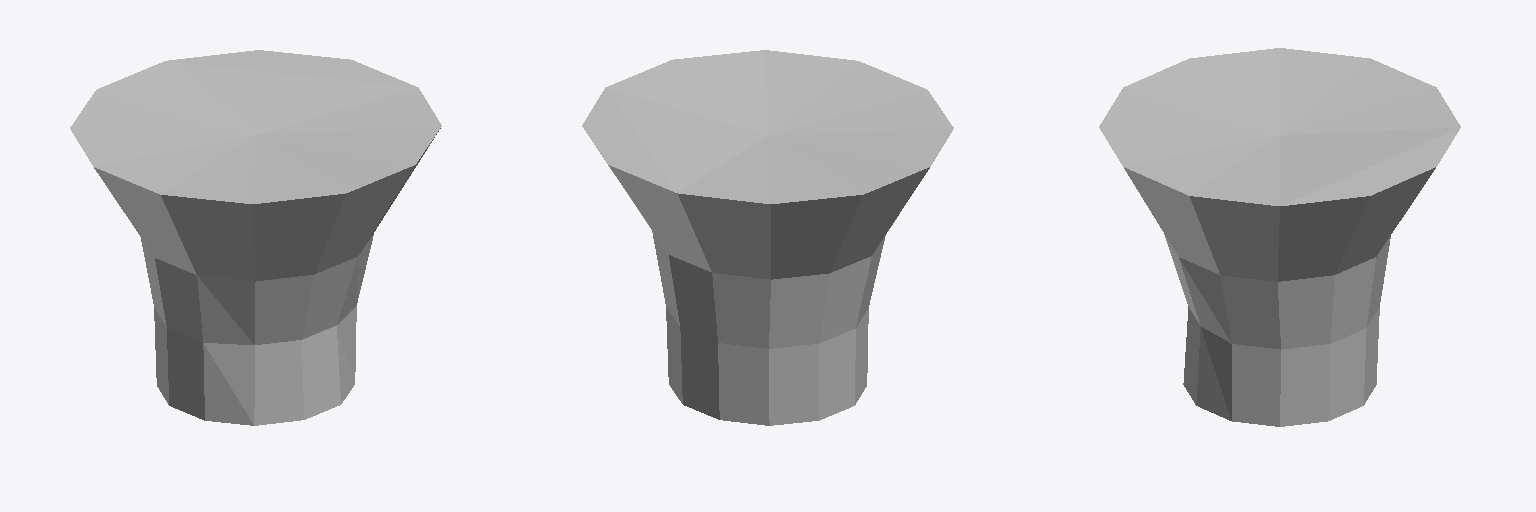
File: voodoodrum03.obj
3 views of the same model, side by side, from view 1: azimuth 30°, elevation 25°; view 2: azimuth 150°, elevation 25°; view 3: azimuth 270°, elevation 25° (orthographic).
Parts seen in each view (by area): view 1: voodoodrum03; view 2: voodoodrum03; view 3: voodoodrum03.
Boxes of the visible parts, x1=… form: voodoodrum03: x1=70, y1=50, x2=441, y2=425; voodoodrum03: x1=582, y1=50, x2=953, y2=425; voodoodrum03: x1=1099, y1=48, x2=1460, y2=426.
Size of the model in its own units: 1.25 by 0.9448 by 1.2.